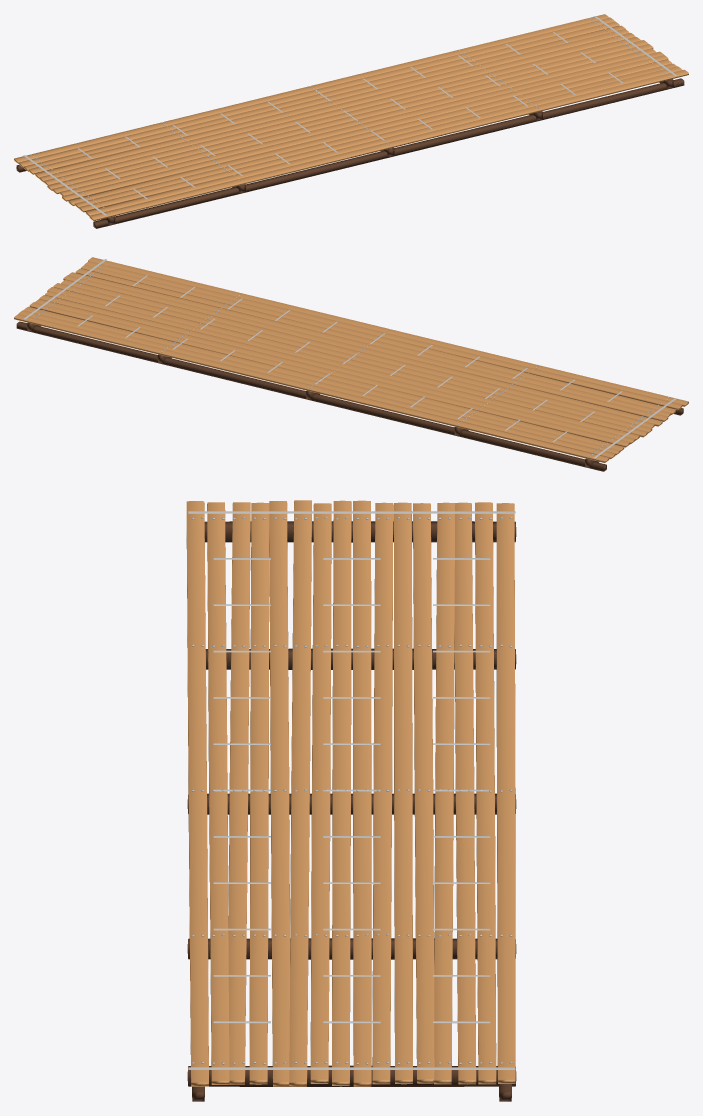
Rendered from SkateDeck.obj.
3 renders of one model, top to bottom at view 1: azimuth 30°, elevation 25°; view 2: azimuth 150°, elevation 25°; view 3: azimuth 270°, elevation 25°, orthographic. The views are drawn at different scales.
Parts seen in each view (by area): view 1: Planks, Beams, Paint, Bolts; view 2: Planks, Beams, Paint, Bolts; view 3: Planks, Paint, Beams, Bolts.
Part boxes in pixels (box(x1,y1,x2,y2)): Planks: box(14, 14, 688, 221); Beams: box(16, 78, 684, 228); Paint: box(23, 16, 677, 215); Bolts: box(30, 18, 670, 213); Planks: box(14, 257, 688, 462); Beams: box(16, 321, 683, 471); Paint: box(23, 259, 676, 458); Bolts: box(31, 261, 668, 456); Planks: box(186, 500, 515, 1086); Paint: box(188, 511, 515, 1069); Beams: box(187, 521, 516, 1101); Bolts: box(191, 517, 512, 1064).
Bounding box in the file's own units: 100 × 2.04 × 24.07.
